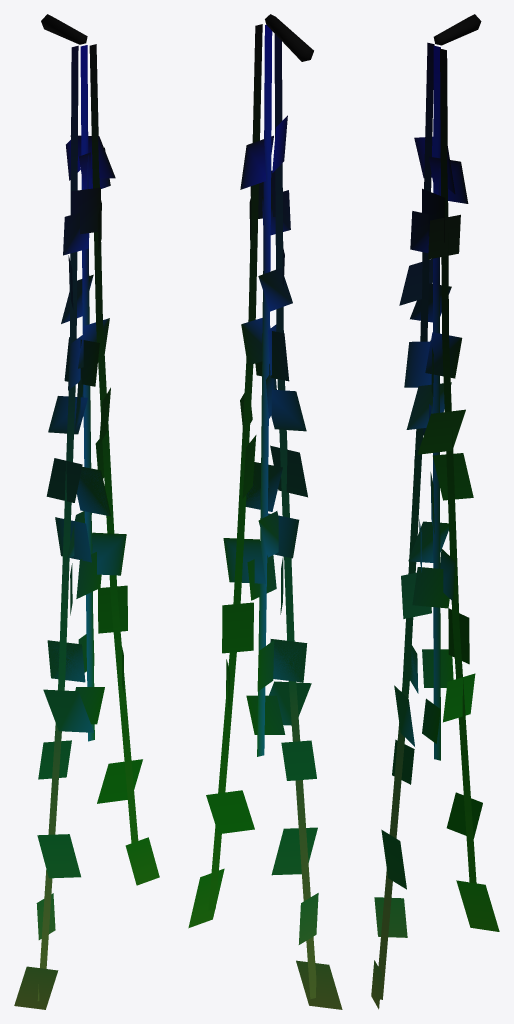
File: SM_Pit_TagStrand_C_LOD1.fbx
3 views of the same model, side by side, from view 1: azimuth 30°, elevation 25°; view 2: azimuth 210°, elevation 25°; view 3: azimuth 330°, elevation 25° (orthographic). The views are drawn at different scales.
Parts seen in each view (by area): view 1: SM_Pit_TagStrand_C_LOD1; view 2: SM_Pit_TagStrand_C_LOD1; view 3: SM_Pit_TagStrand_C_LOD1.
Part boxes in pixels (x1=…): SM_Pit_TagStrand_C_LOD1: x1=14, y1=14, x2=159, y2=1009; SM_Pit_TagStrand_C_LOD1: x1=188, y1=14, x2=342, y2=1009; SM_Pit_TagStrand_C_LOD1: x1=371, y1=14, x2=499, y2=1009.
Bounding box in the file's own units: 0.215 × 1.45 × 0.154.
